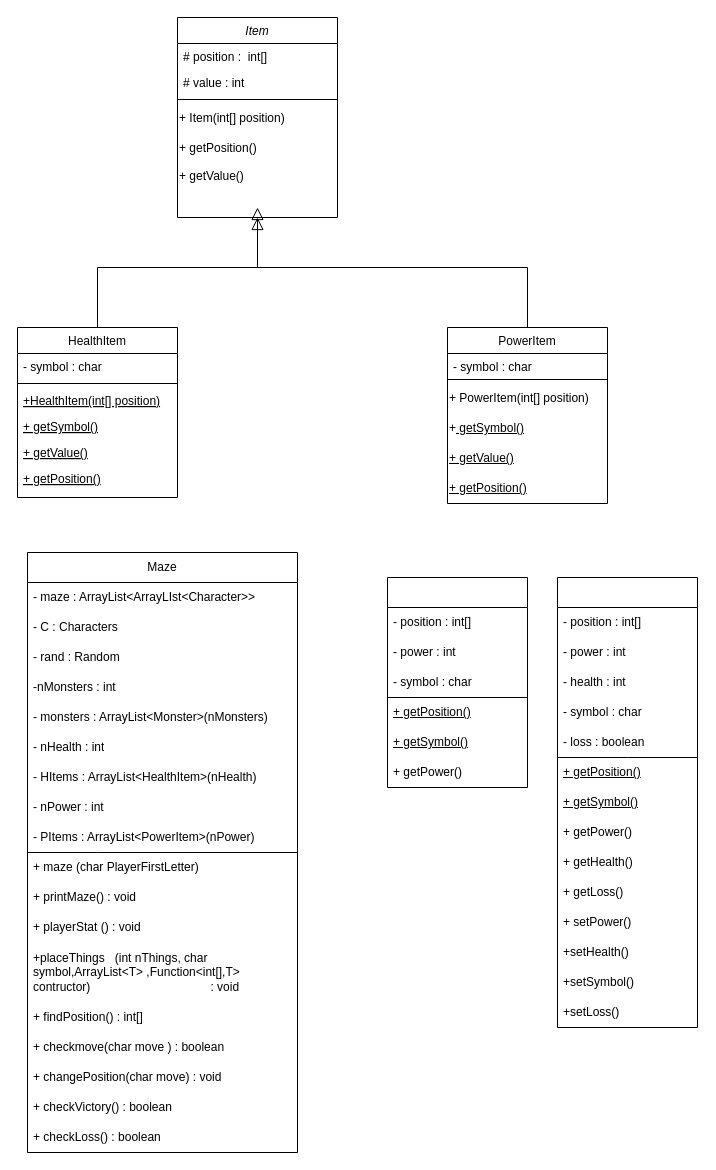
Image size: 716x1170. Some labels were removed from this diagram. Here are the shapes that lost their labels. From the top down, the box of each, then its label:
(386, 576, 528, 788): Monster
(556, 576, 698, 1028): Characters
